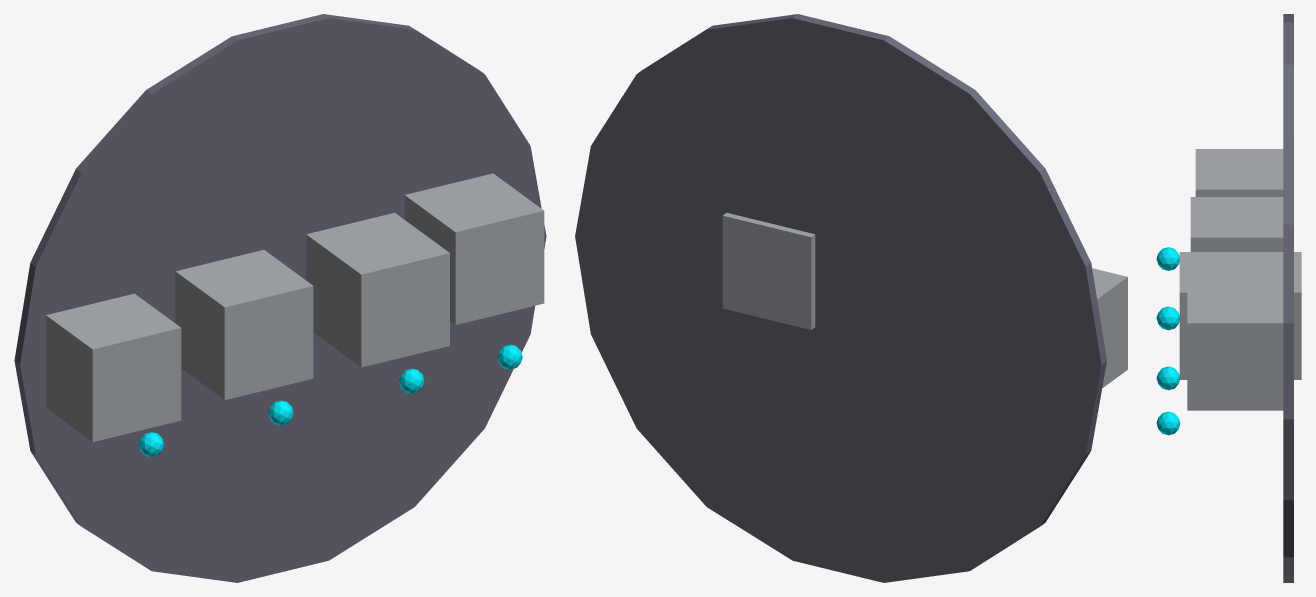
The model's file is 02_local_prop_cluster.glb.
The picture shows the model from 3 angles, left to right: view 1: azimuth 30°, elevation 25°; view 2: azimuth 150°, elevation 25°; view 3: azimuth 270°, elevation 25°; orthographic projection. The views are drawn at different scales.
Parts seen in each view (by area): view 1: scatter_base, tech_crate_2, tech_crate_1, tech_crate_0, tech_crate_3; view 2: scatter_base, tech_crate_2, tech_crate_0; view 3: tech_crate_3, scatter_base, tech_crate_1, tech_crate_2, tech_crate_0, status_light_3, status_light_1, status_light_2, status_light_0.
Boxes of the visible parts, box(x1,y1,x2,y2) form: scatter_base: box(14, 14, 546, 582); tech_crate_2: box(306, 212, 449, 367); tech_crate_1: box(175, 250, 313, 399); tech_crate_0: box(46, 293, 181, 441); tech_crate_3: box(404, 173, 544, 324); scatter_base: box(575, 14, 1106, 582); tech_crate_2: box(722, 213, 815, 329); tech_crate_0: box(1092, 268, 1127, 387); tech_crate_3: box(1187, 282, 1283, 410); scatter_base: box(1283, 14, 1293, 582); tech_crate_1: box(1190, 197, 1283, 251); tech_crate_2: box(1179, 252, 1301, 379); tech_crate_0: box(1195, 149, 1283, 196); status_light_3: box(1156, 411, 1180, 435); status_light_1: box(1156, 306, 1179, 330); status_light_2: box(1156, 366, 1179, 390); status_light_0: box(1156, 247, 1179, 270).
Size of the model in its own units: 1.9 by 1.87 by 0.4828.
